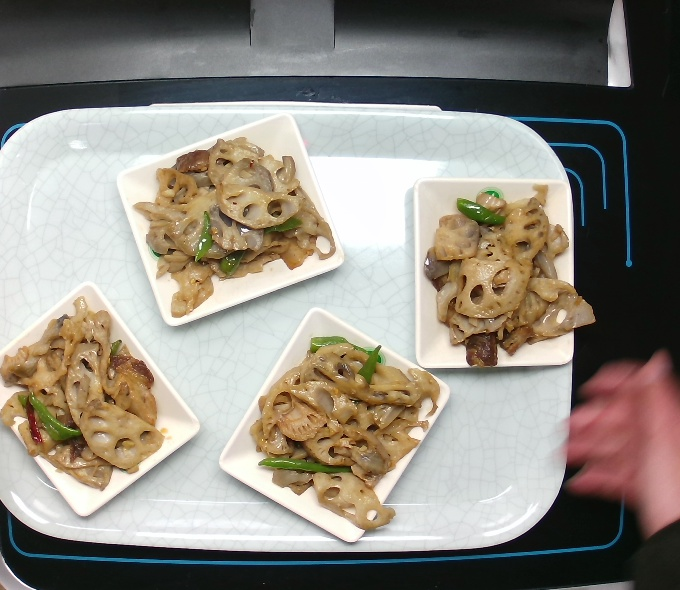wcq-OuPianChaoRou: (130, 133, 342, 321), (250, 331, 442, 532), (1, 297, 168, 496), (427, 181, 594, 376)
